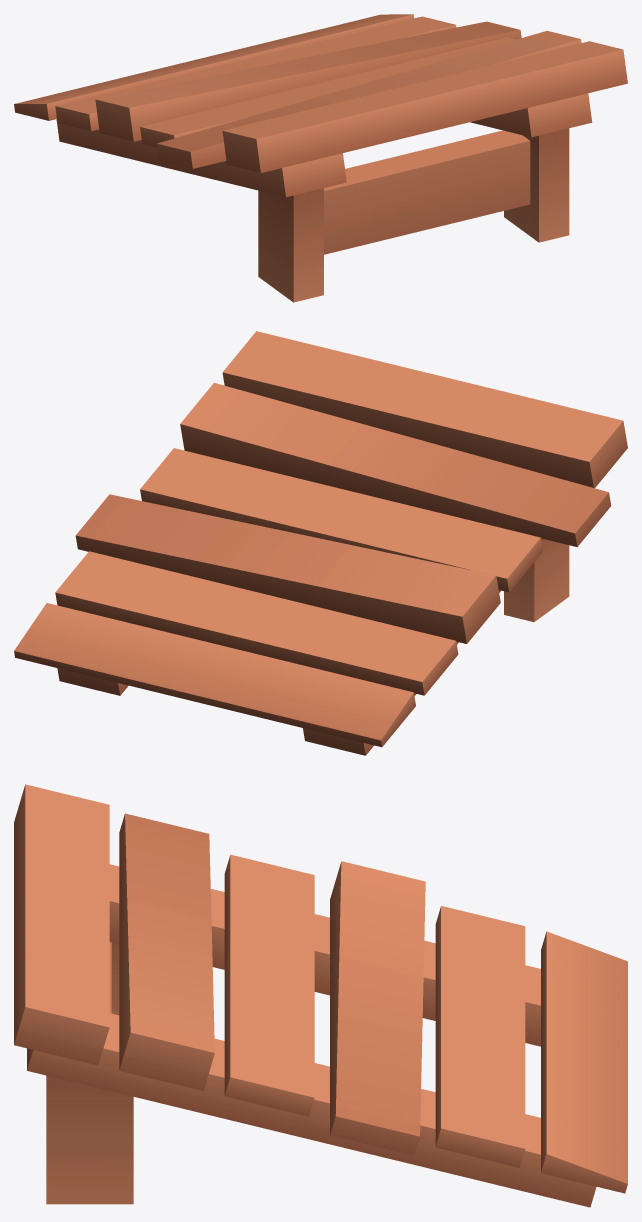
The model's file is ramp-transformed.glb.
The picture shows the model from 3 angles, top to bottom: view 1: azimuth 30°, elevation 25°; view 2: azimuth 150°, elevation 25°; view 3: azimuth 270°, elevation 25°; orthographic projection. The views are drawn at different scales.
Parts seen in each view (by area): view 1: ramp; view 2: ramp; view 3: ramp.
Part boxes in pixels (x1,y1,x2,y2): ramp: (14, 14, 627, 302); ramp: (14, 331, 627, 755); ramp: (14, 784, 627, 1207).
Bounding box in the file's own units: 2.73 × 1.14 × 2.81.
1 material, 1 textured.
